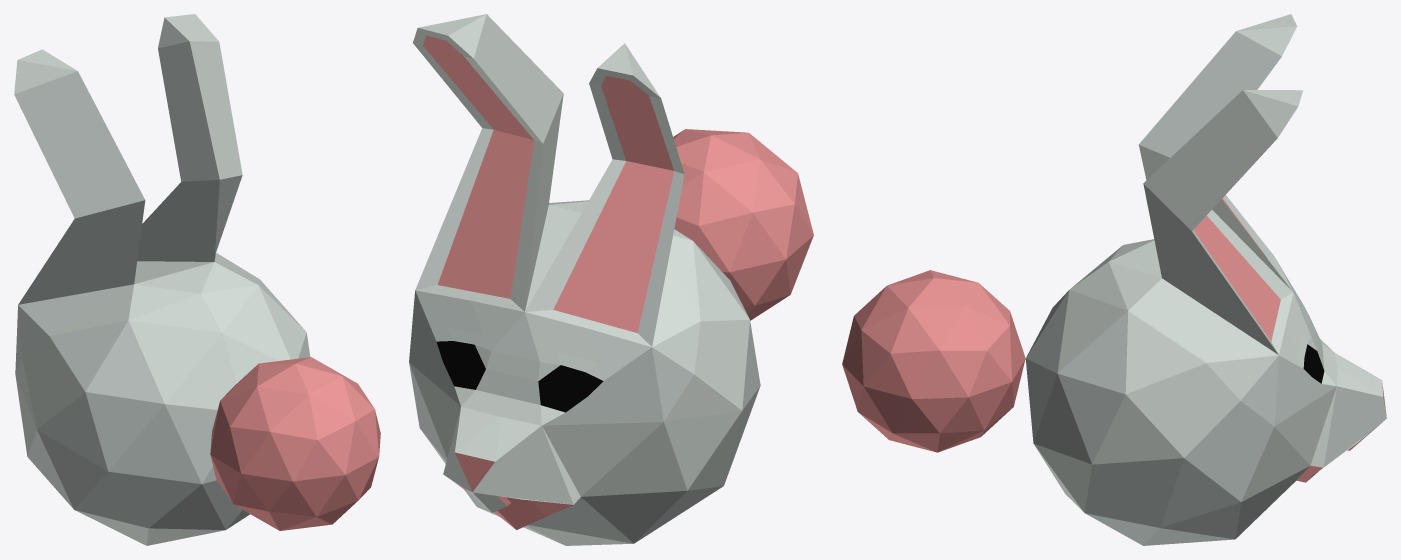
The model's file is Bunny.glb.
3 views of the same model, side by side, from view 1: azimuth 30°, elevation 25°; view 2: azimuth 150°, elevation 25°; view 3: azimuth 270°, elevation 25° (orthographic). The views are drawn at different scales.
Parts seen in each view (by area): view 1: Bunny; view 2: Bunny; view 3: Bunny.
Boxes of the visible parts, <box> form: Bunny: <box>14,14,380,545</box>; Bunny: <box>409,14,813,545</box>; Bunny: <box>842,14,1386,545</box>.
Size of the model in its own units: 1.89 by 3.1 by 3.25.
